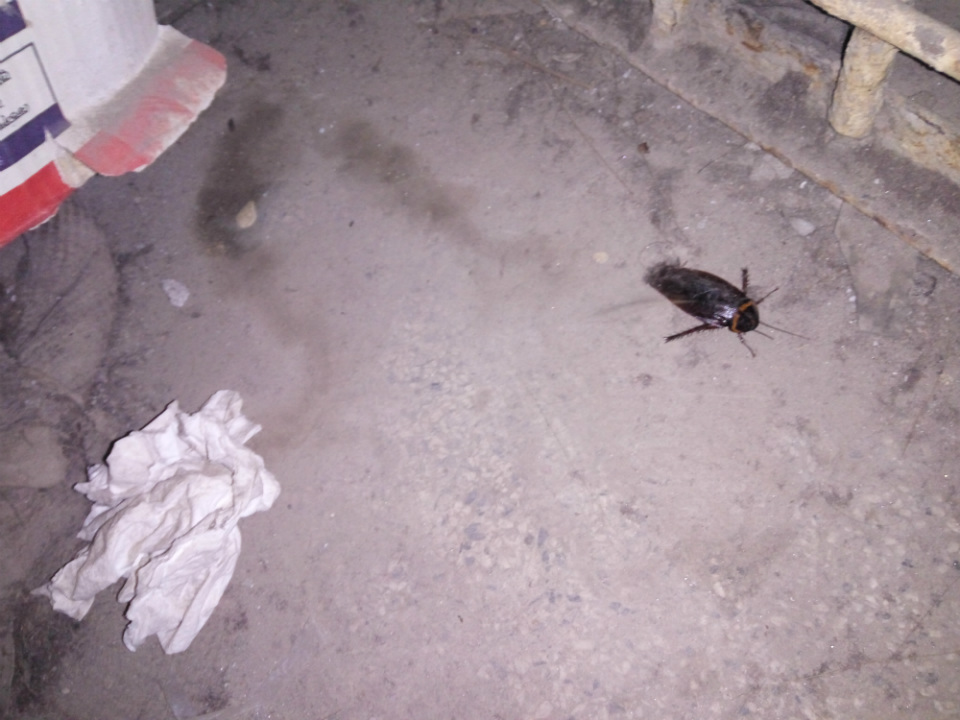cockroach: (657, 218, 802, 361)
